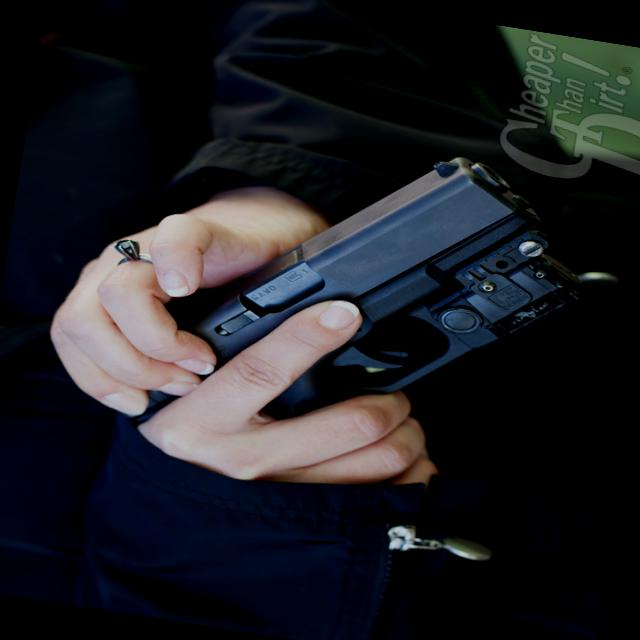handgun: (102, 116, 628, 509)
